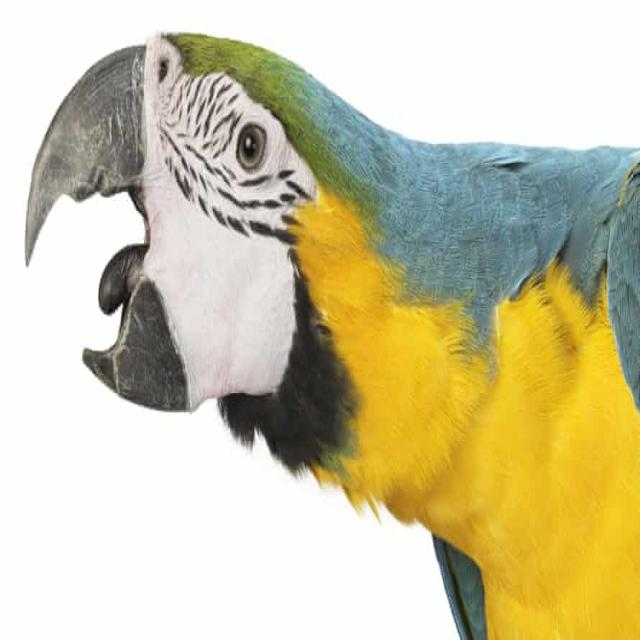Parrot: (19, 21, 639, 640)
